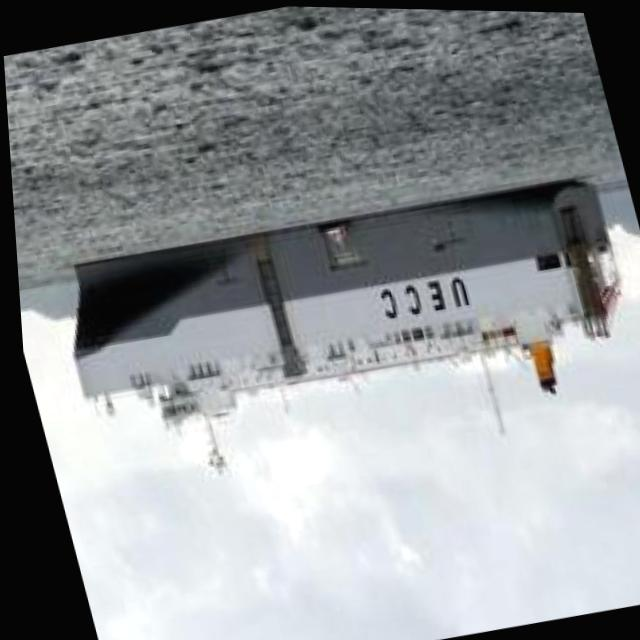ship2: (67, 176, 618, 472)
